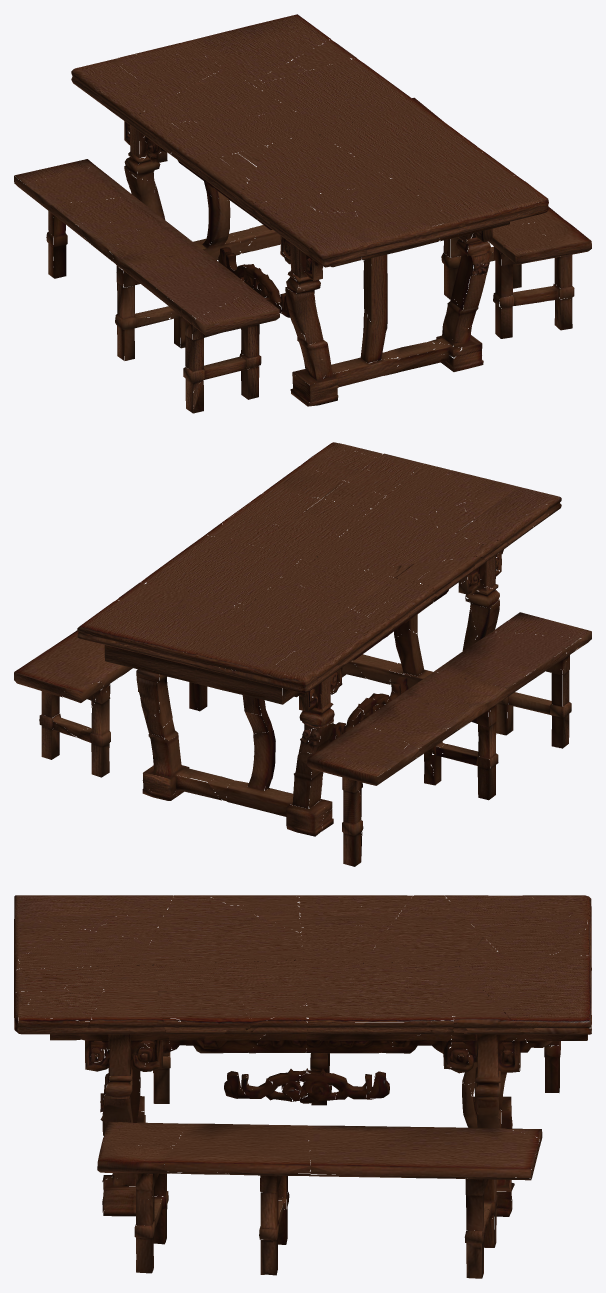
Rendered from Furn_Table_Dining.glb.
The picture shows the model from 3 angles, top to bottom: view 1: azimuth 30°, elevation 25°; view 2: azimuth 150°, elevation 25°; view 3: azimuth 270°, elevation 25°; orthographic projection. The views are drawn at different scales.
Visible parts, largest first — view 1: tripo_node_072167aa-9902-4068-a8c3-022a07f418e1; view 2: tripo_node_072167aa-9902-4068-a8c3-022a07f418e1; view 3: tripo_node_072167aa-9902-4068-a8c3-022a07f418e1.
Boxes of the visible parts, x1,y1,x2,y2 form: tripo_node_072167aa-9902-4068-a8c3-022a07f418e1: (14, 14, 591, 413); tripo_node_072167aa-9902-4068-a8c3-022a07f418e1: (14, 442, 591, 866); tripo_node_072167aa-9902-4068-a8c3-022a07f418e1: (14, 895, 591, 1278).
Size of the model in its own units: 0.8922 by 0.4065 by 1.
Materials: 1 (1 with a texture image).
